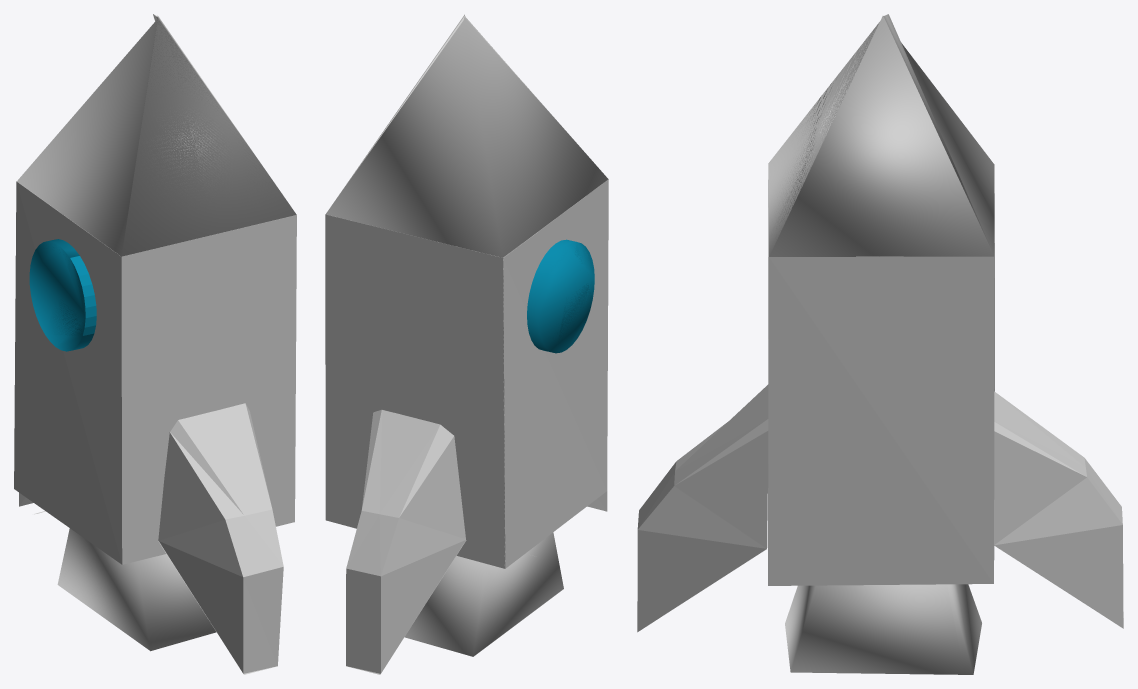
The model's file is rocket_model.dae.
3 renders of one model, left to right at view 1: azimuth 30°, elevation 25°; view 2: azimuth 150°, elevation 25°; view 3: azimuth 270°, elevation 25°, orthographic. The views are drawn at different scales.
Parts seen in each view (by area): view 1: mainbody, head, leftwing, toorbine, eliminator; view 2: mainbody, head, rightwing, toorbine, eliminator; view 3: mainbody, head, leftwing, rightwing, toorbine.
Part boxes in pixels (x1,y1,x2,y2): mainbody: [14, 181, 296, 564]; head: [17, 14, 296, 256]; leftwing: [158, 403, 283, 674]; toorbine: [57, 528, 216, 651]; eliminator: [29, 239, 96, 351]; mainbody: [325, 179, 608, 568]; head: [326, 14, 608, 257]; rightwing: [346, 410, 534, 674]; toorbine: [404, 532, 563, 656]; eliminator: [527, 239, 594, 353]; mainbody: [768, 163, 994, 585]; head: [768, 14, 994, 256]; leftwing: [637, 384, 768, 632]; rightwing: [994, 391, 1123, 628]; toorbine: [785, 584, 981, 674].
Bounding box in the file's own units: 3.86 × 8.01 × 11.57.
